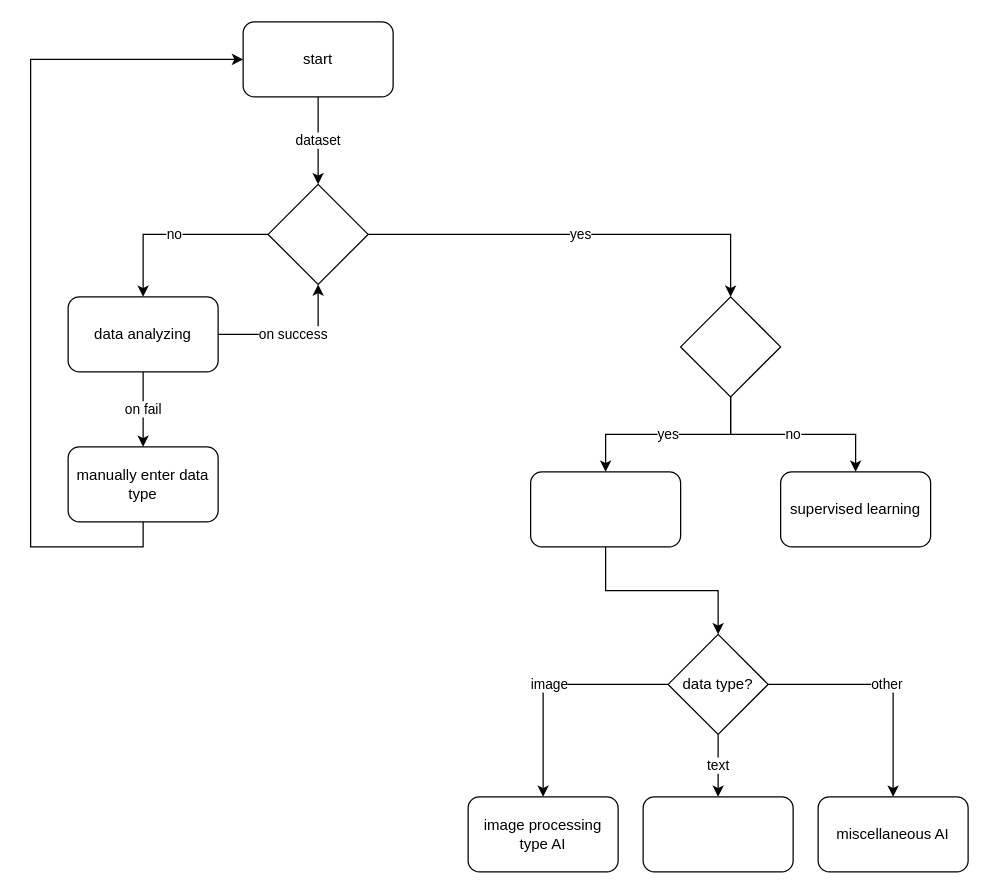
Image size: 990x894. Some labels were removed from this diagram. Here are the shapes that lost their labels. From the top down, the centre of each, then its label:
At pixel 317 233: "known data type?".
At pixel 730 346: "data is tagged?".
At pixel 605 509: "unsupervised learning".
At pixel 717 834: "text processing type AI".
